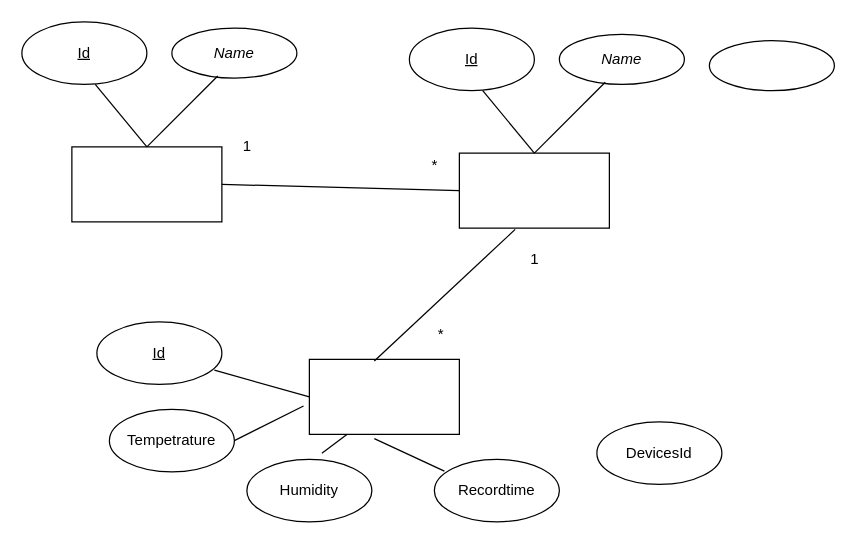
The diagram is 856 pixels wide and 544 high, and some of its shapes have lost their labels. The centre of each missing label's shape, as x and y in pixels:
Devices: the point at 533,190
Holders: the point at 146,184
HoldersId: the point at 771,65
Records: the point at 383,396
